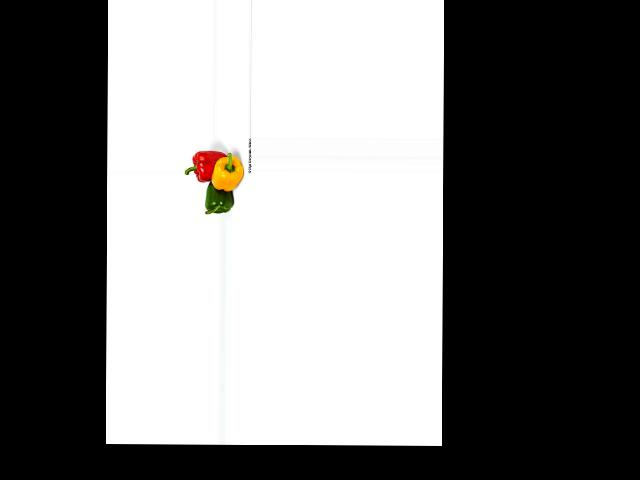bell_pepper: (185, 147, 225, 182)
